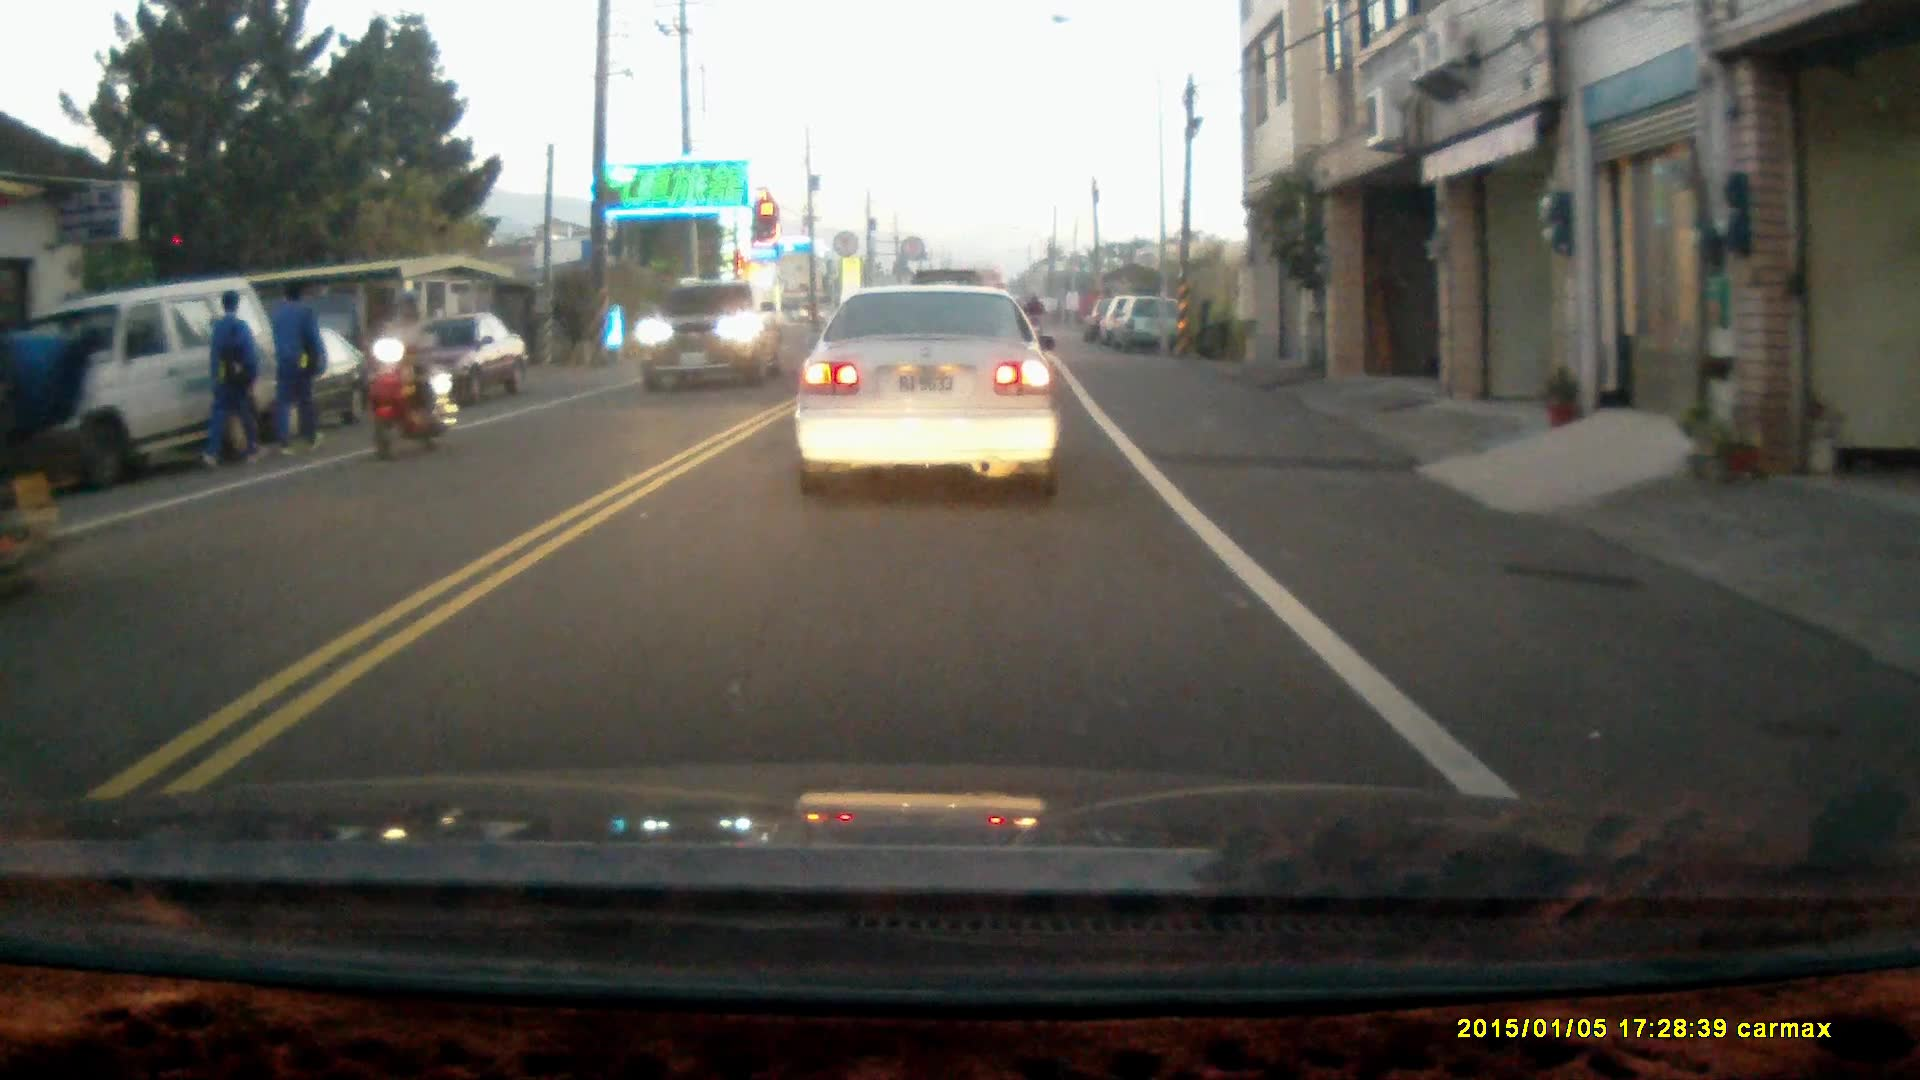pedestrian: (265, 274, 329, 460), (198, 287, 260, 471)
rider: (362, 285, 458, 458)
vehicle: (794, 281, 1064, 504), (3, 278, 276, 489), (152, 319, 369, 435), (369, 313, 532, 419), (635, 278, 780, 394), (1112, 297, 1189, 357)
